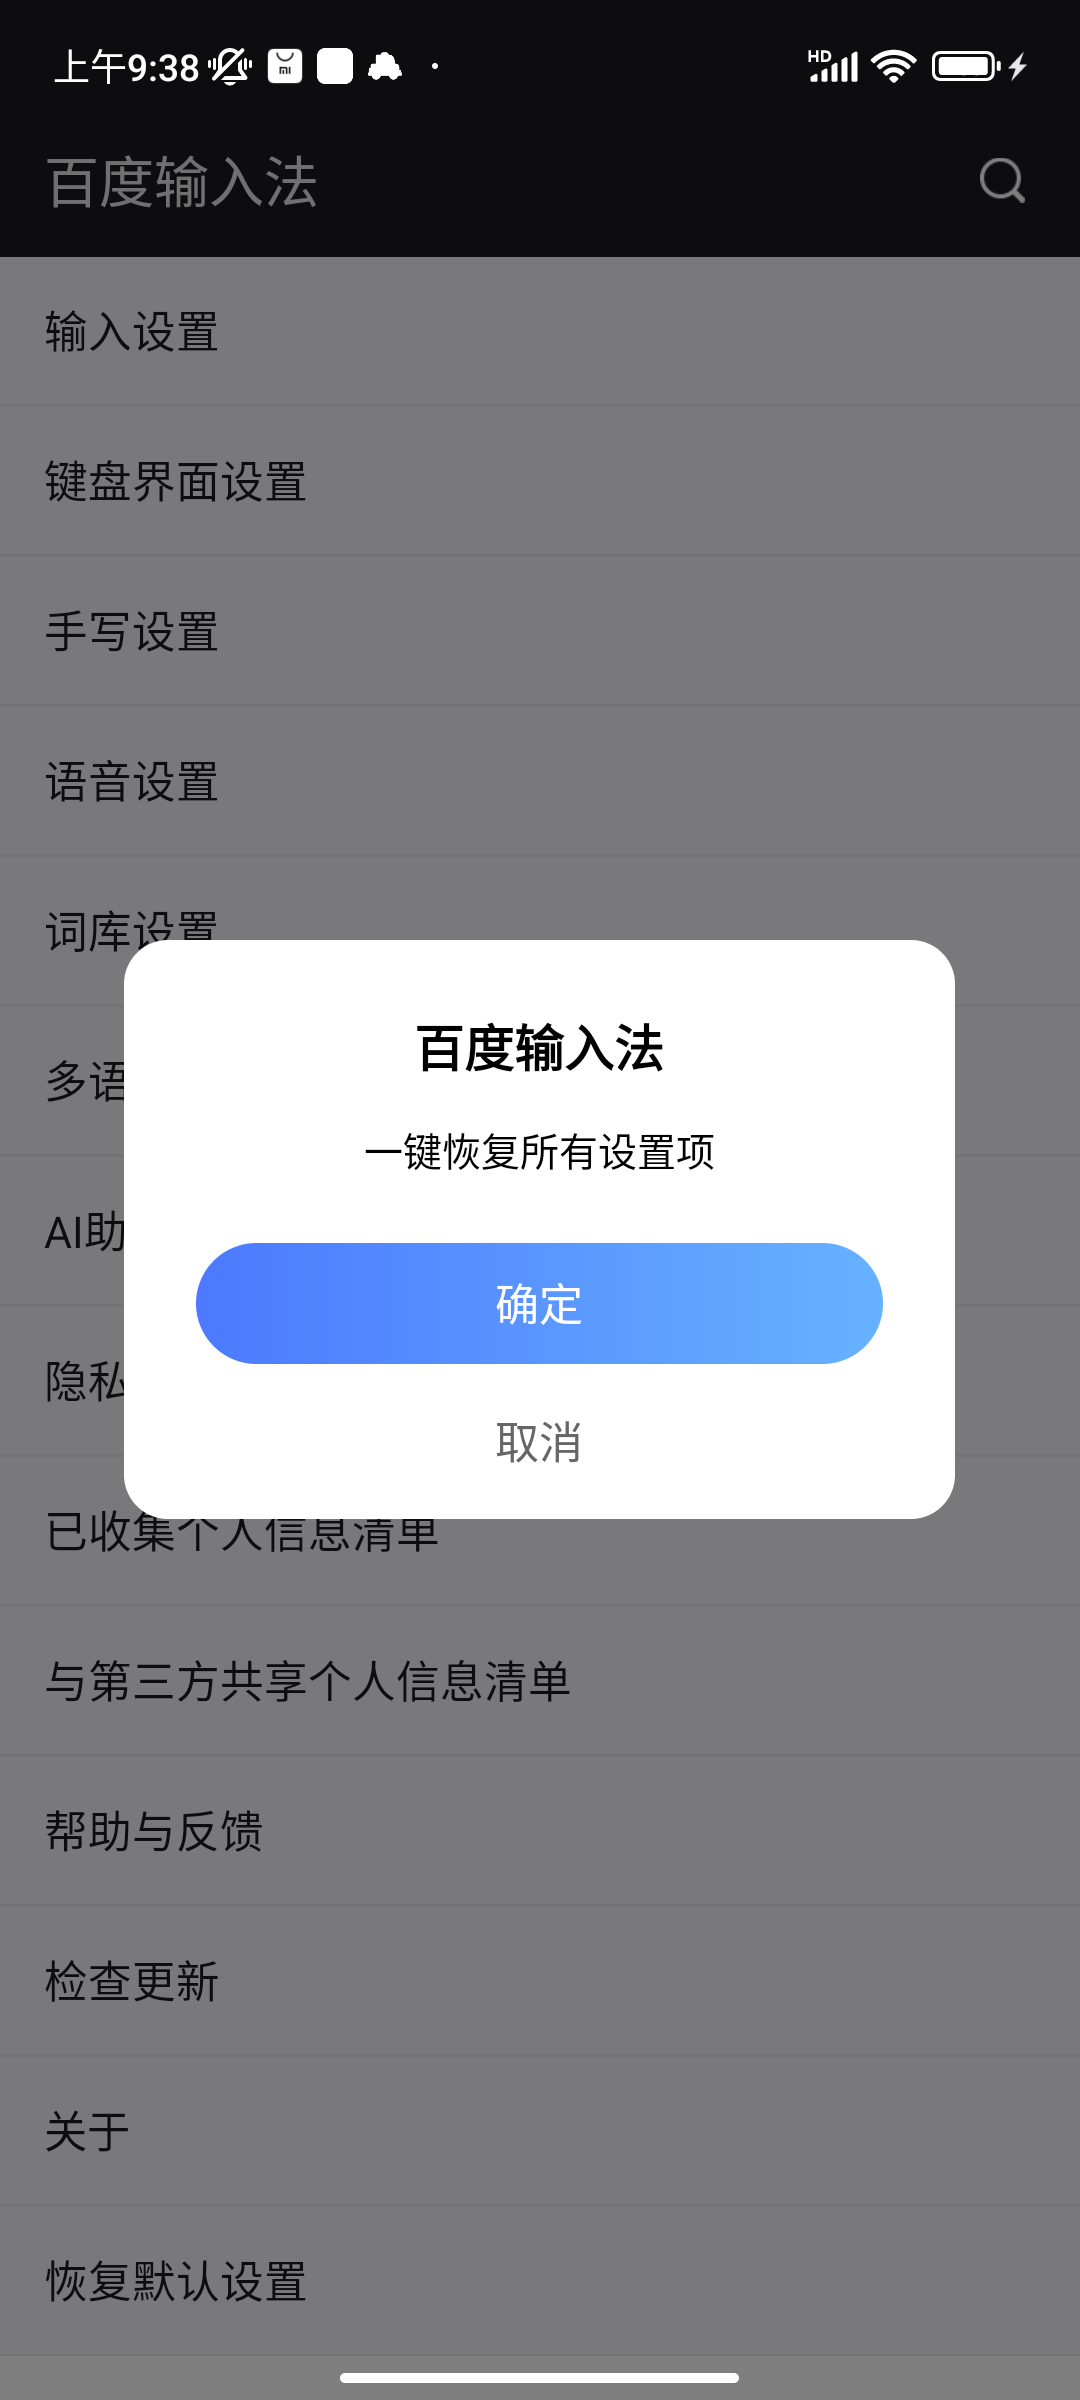ui_group: (122, 938, 956, 1514)
